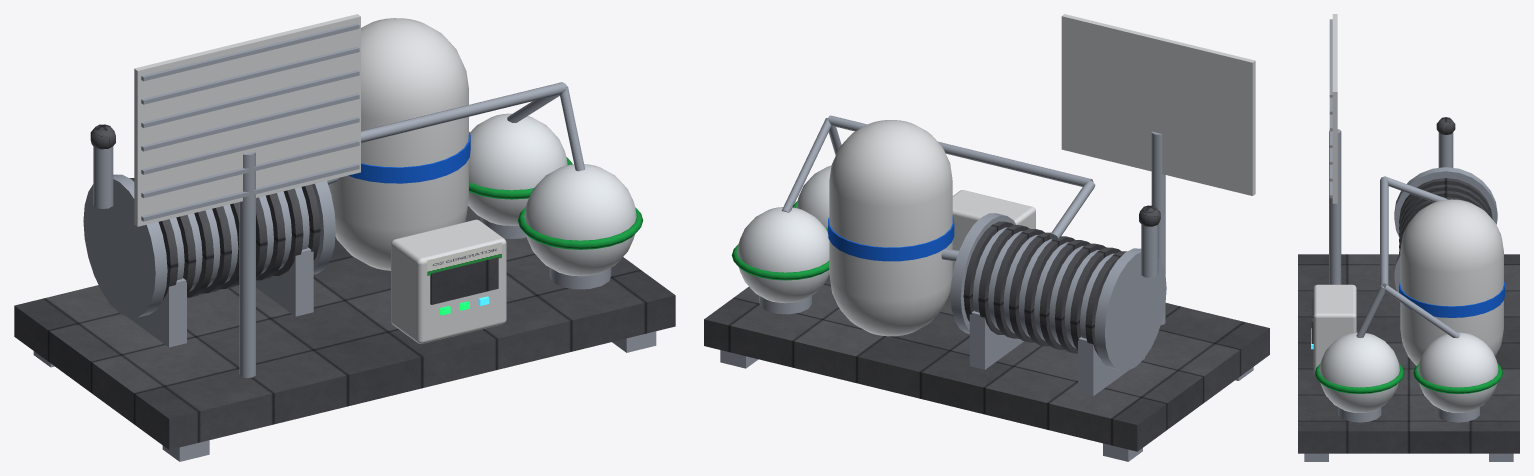
File: OxygenPlant.glb
The picture shows the model from 3 angles, left to right: view 1: azimuth 30°, elevation 25°; view 2: azimuth 150°, elevation 25°; view 3: azimuth 270°, elevation 25°; orthographic projection. The views are drawn at different scales.
Parts seen in each view (by area): view 1: OxygenPlant_Mesh; view 2: OxygenPlant_Mesh; view 3: OxygenPlant_Mesh.
Boxes of the visible parts, x1,y1,x2,y2 form: OxygenPlant_Mesh: (14,14,675,461); OxygenPlant_Mesh: (704,14,1269,461); OxygenPlant_Mesh: (1298,14,1519,461).
Bounding box in the file's own units: 3.47 × 2.45 × 1.8.
10 materials, 2 textured.
